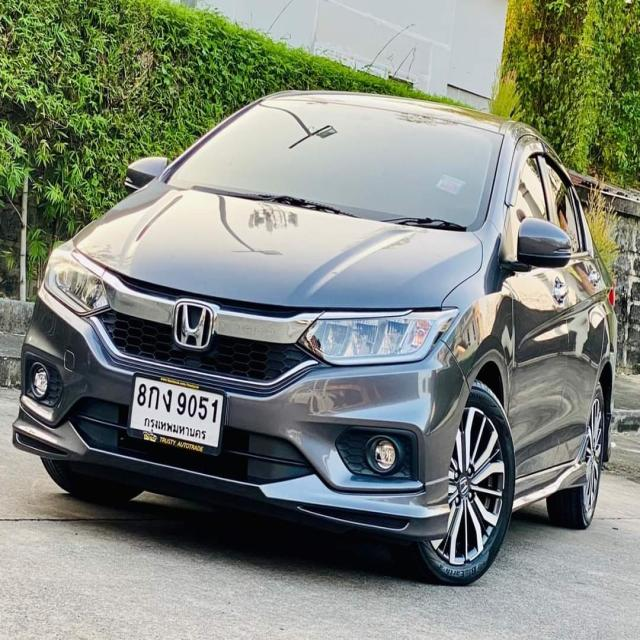license_plate: (122, 365, 229, 463)
